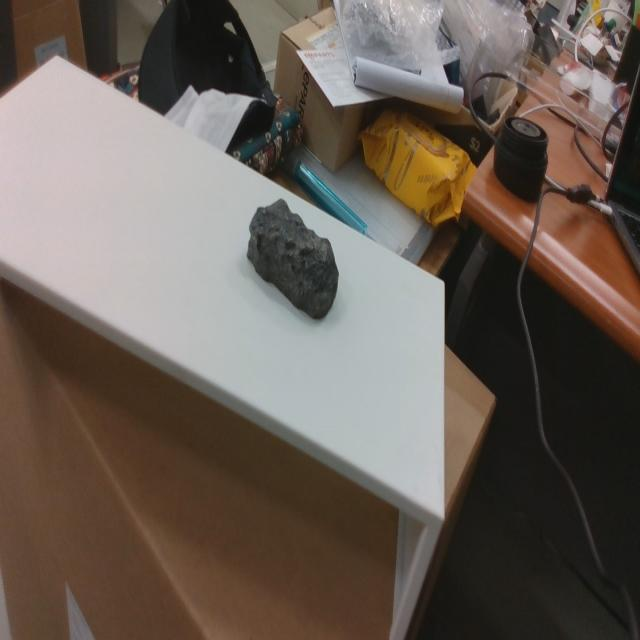stone: (247, 199, 338, 323)
